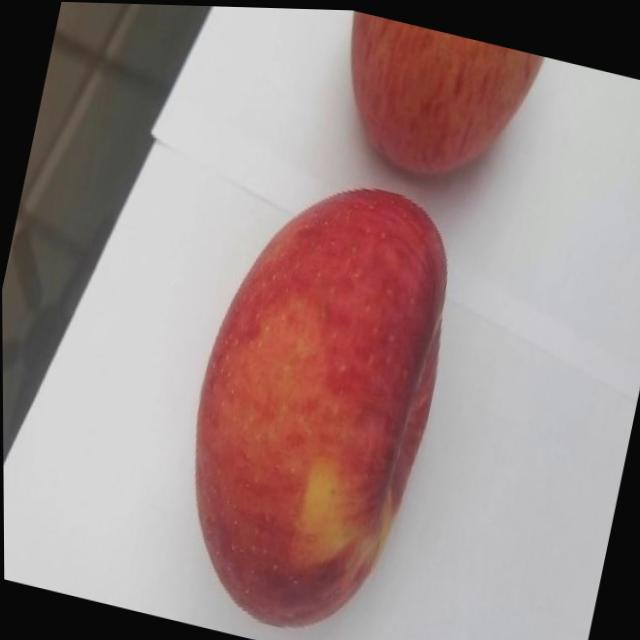Apple: (154, 154, 475, 640), (323, 8, 546, 196)
